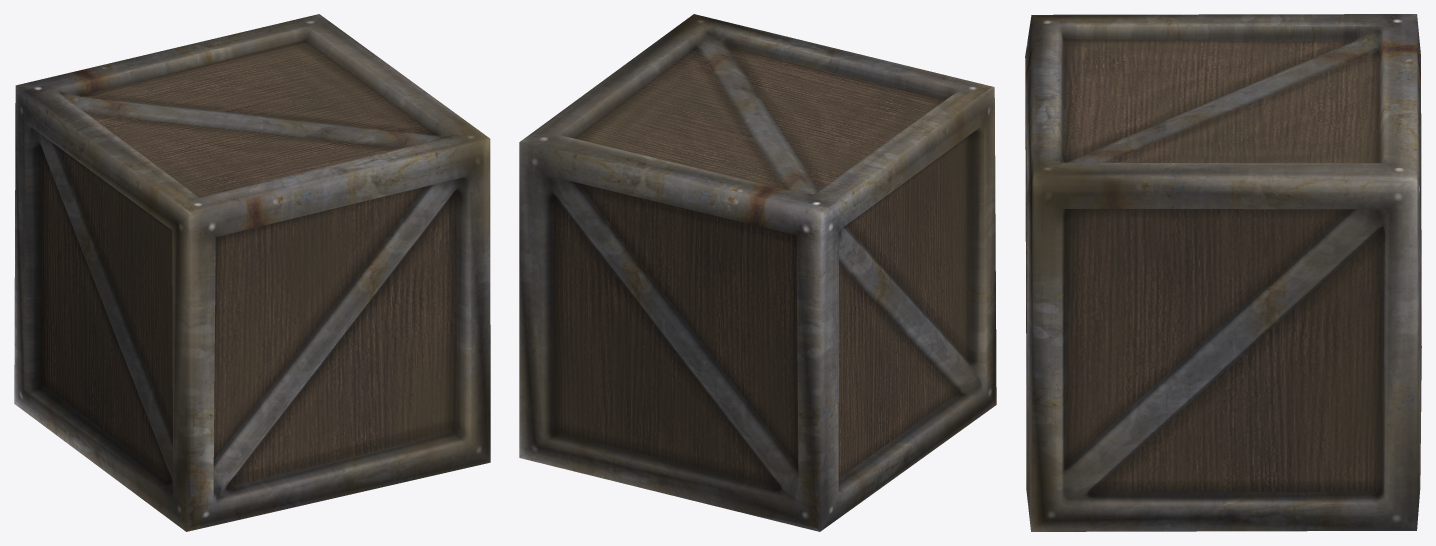
File: Create.fbx
The picture shows the model from 3 angles, left to right: view 1: azimuth 30°, elevation 25°; view 2: azimuth 150°, elevation 25°; view 3: azimuth 270°, elevation 25°; orthographic projection. The views are drawn at different scales.
Parts seen in each view (by area): view 1: RetopoGroup1; view 2: RetopoGroup1; view 3: RetopoGroup1.
Part boxes in pixels (<box>): RetopoGroup1: <box>14,14,490,531</box>; RetopoGroup1: <box>519,14,996,531</box>; RetopoGroup1: <box>1025,14,1421,531</box>.
Size of the model in its own units: 101 by 100 by 101.
